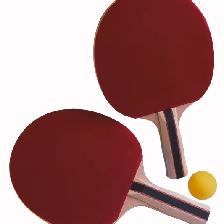YellowBall: (187, 170, 217, 199)
